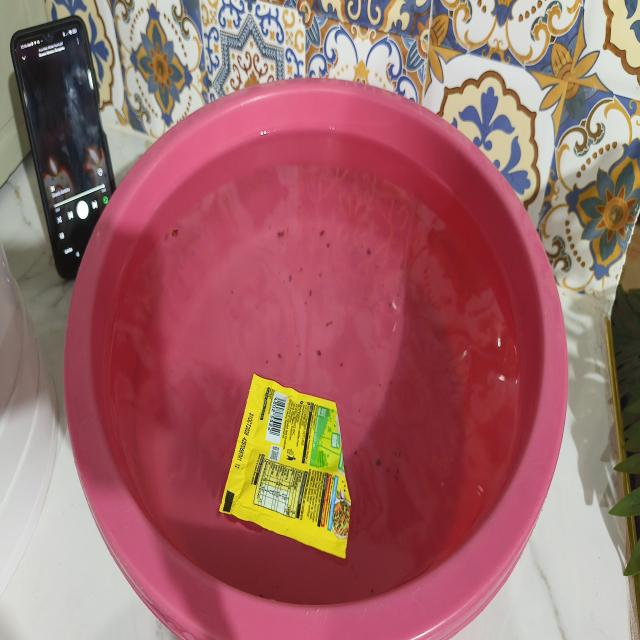Plastic Wrapper: (205, 325, 367, 603)
